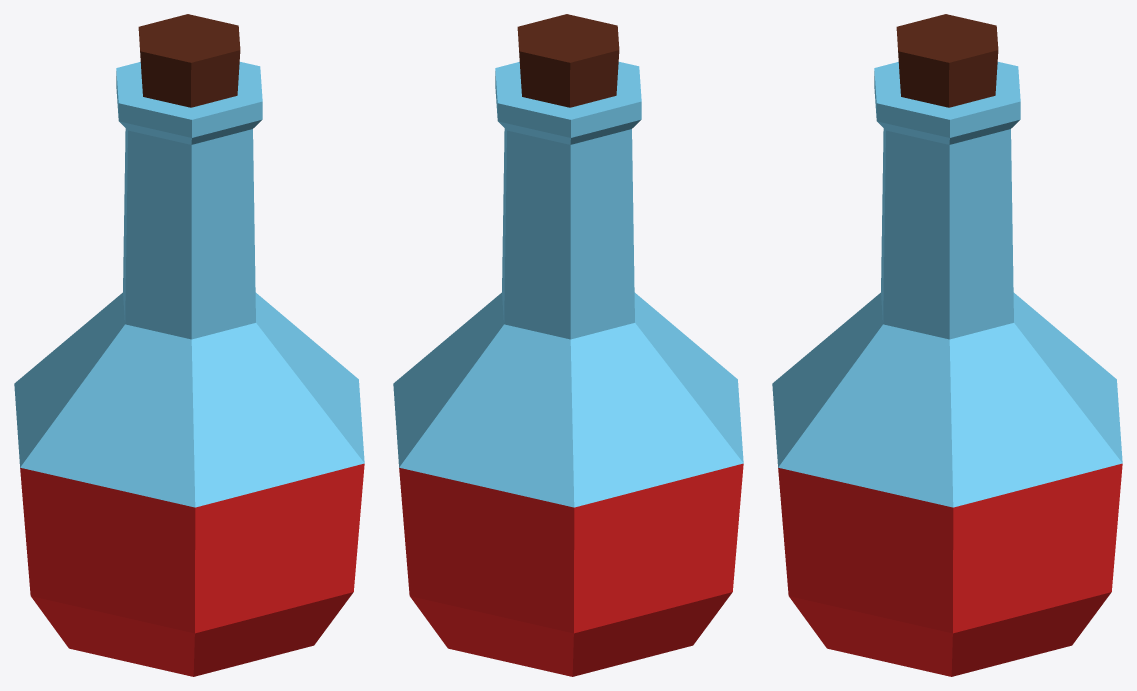
Rendered from m_RedPotion.FBX.
3 views of the same model, side by side, from view 1: azimuth 30°, elevation 25°; view 2: azimuth 150°, elevation 25°; view 3: azimuth 270°, elevation 25° (orthographic).
Parts seen in each view (by area): view 1: Circle.001; view 2: Circle.001; view 3: Circle.001.
Part boxes in pixels (left/top/right/bottom): Circle.001: left=14, top=14, right=364, bottom=676; Circle.001: left=393, top=14, right=743, bottom=676; Circle.001: left=772, top=14, right=1122, bottom=676.
Size of the model in its own units: 45.15 by 72.46 by 39.76.
1 material, 1 textured.
